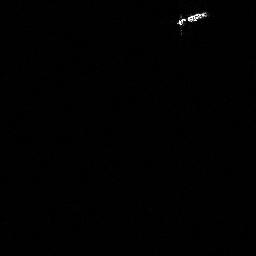ship: (173, 9, 210, 28)
